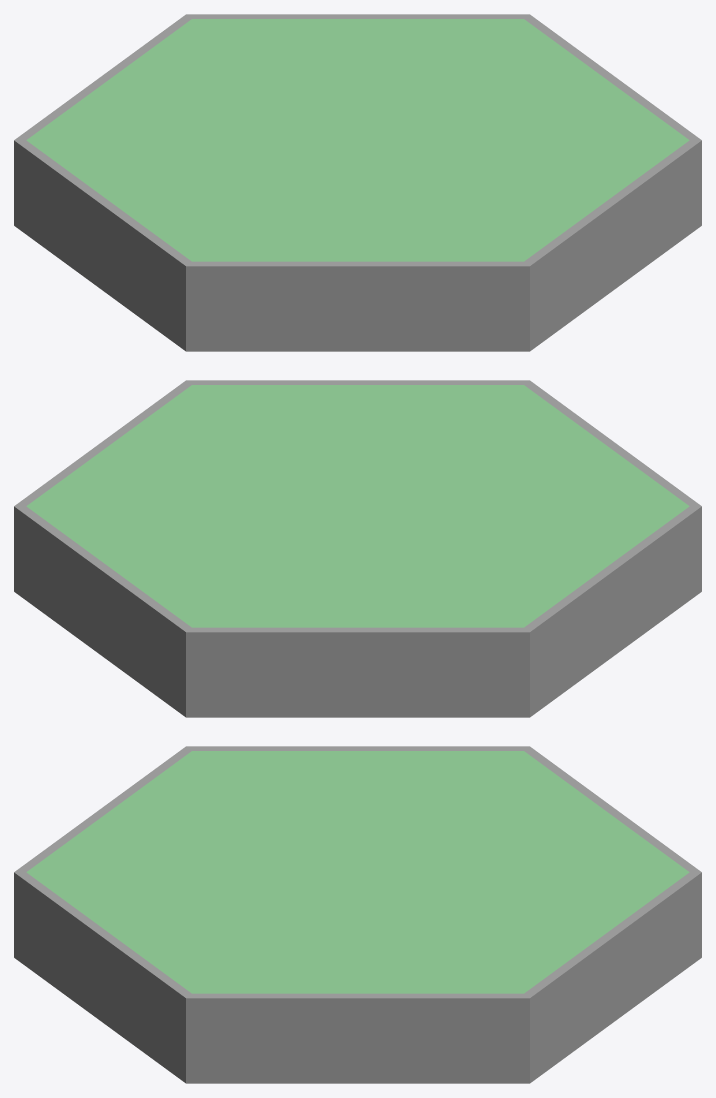
File: gridgrass.fbx
3 renders of one model, top to bottom at view 1: azimuth 30°, elevation 25°; view 2: azimuth 150°, elevation 25°; view 3: azimuth 270°, elevation 25°, orthographic.
Parts seen in each view (by area): view 1: pCylinder25; view 2: pCylinder25; view 3: pCylinder25.
Boxes of the visible parts, x1,y1,x2,y2 form: pCylinder25: (14,14,701,351); pCylinder25: (14,380,701,717); pCylinder25: (14,746,701,1083).
Bounding box in the file's own units: 0.866 × 0.1369 × 1.
